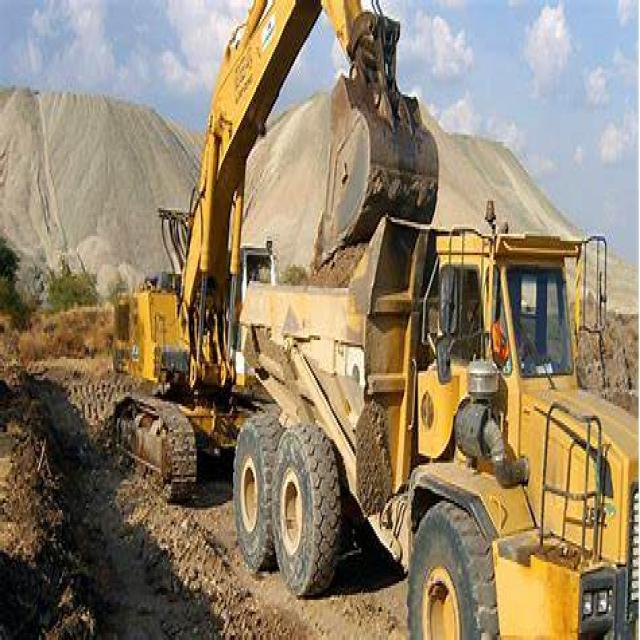dump_truck: (235, 210, 638, 631)
